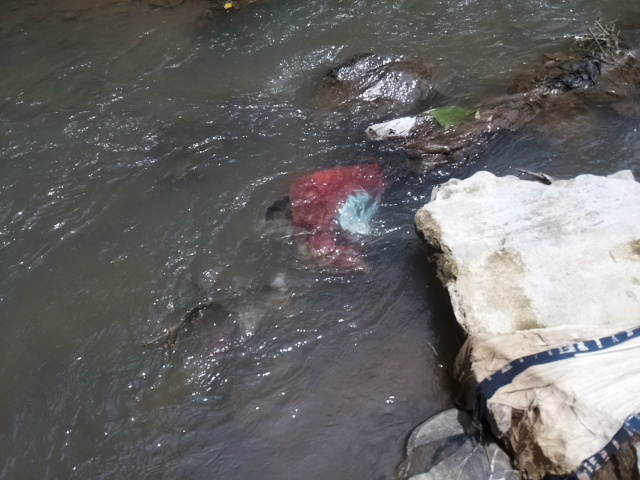Sampah_Plastik: (288, 161, 383, 267)
